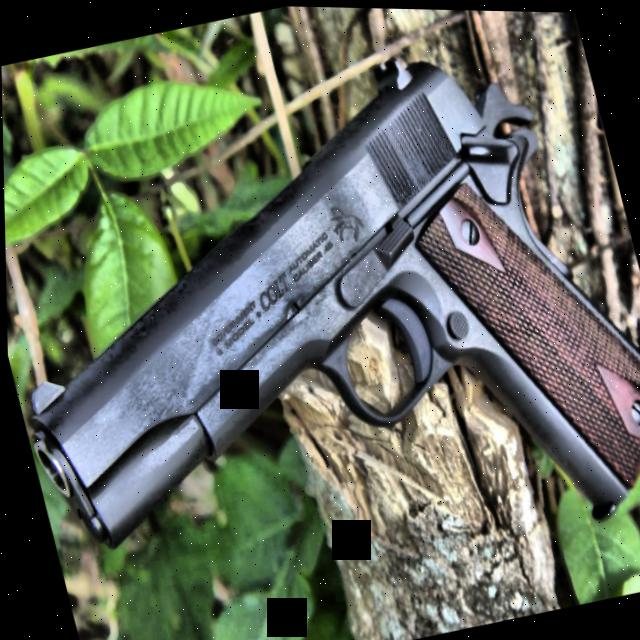Colt m1911: (0, 3, 640, 638)
